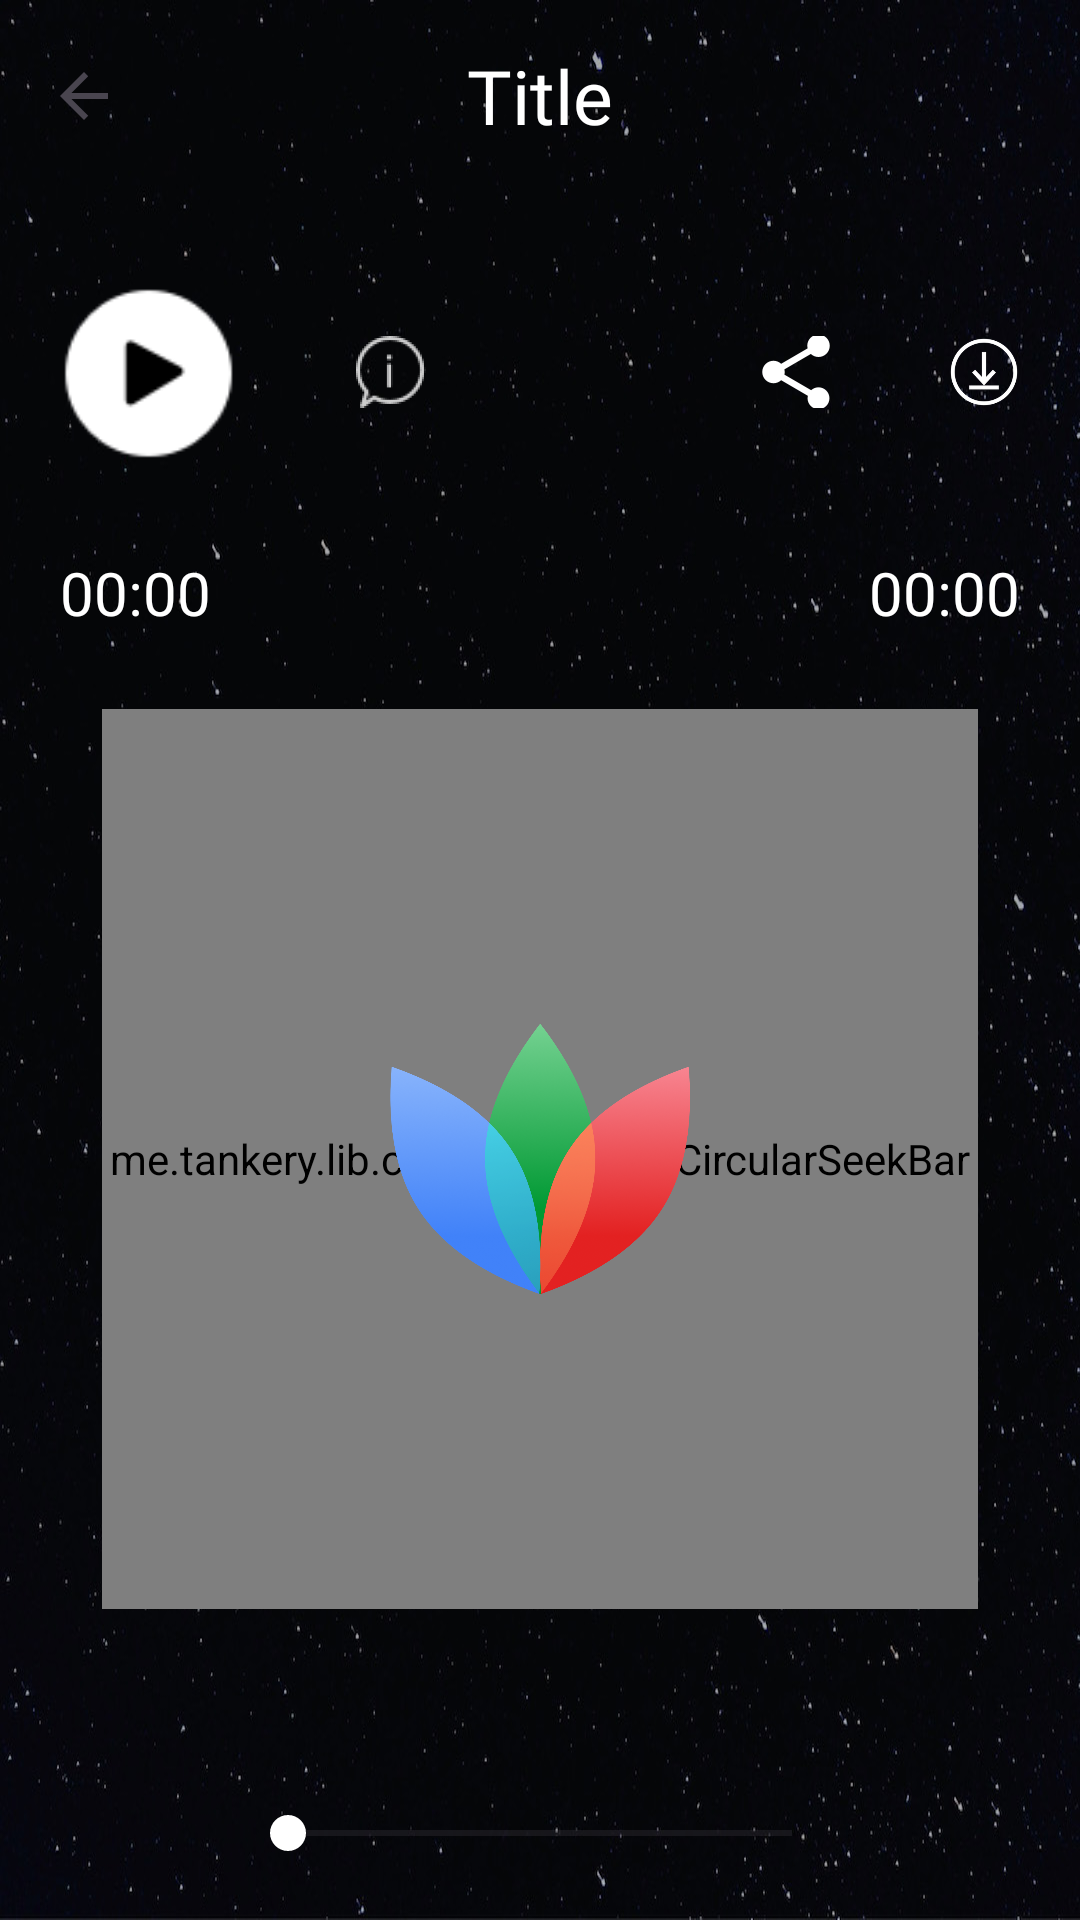

Locate icon controls on the screen. Image size 1080×1920, boxes as (x1, y1, x2, y2).
download: (950, 336, 1018, 408)
info: (356, 336, 426, 408)
play: (64, 282, 238, 461)
share: (762, 336, 830, 408)
